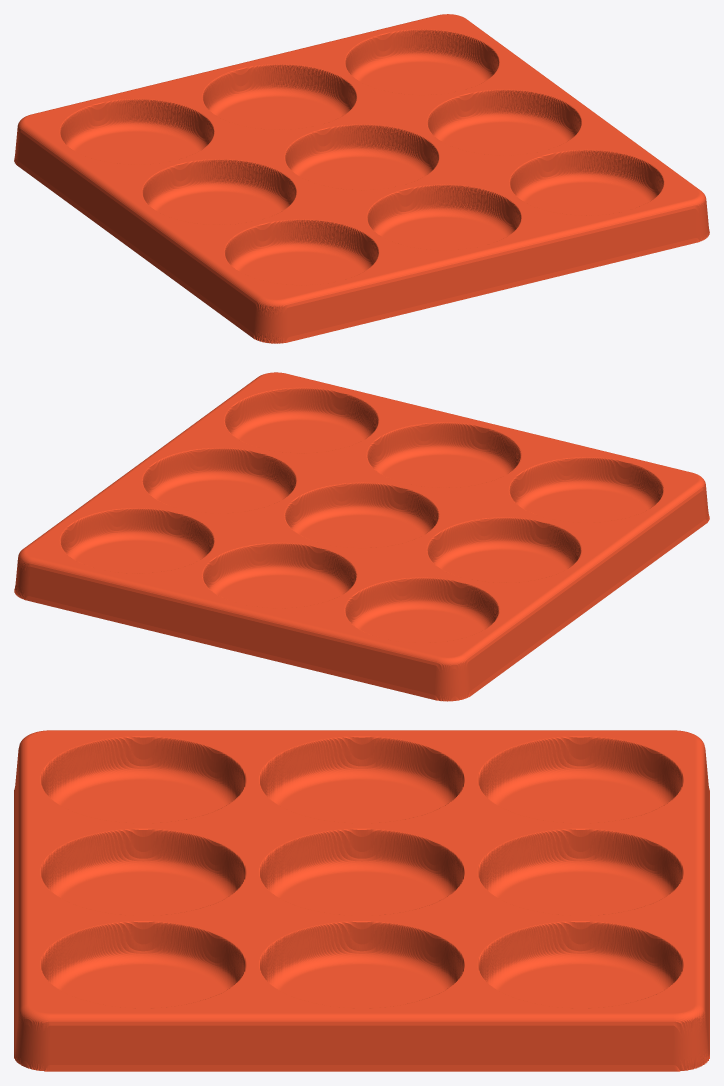
File: mold.glb
The picture shows the model from 3 angles, top to bottom: view 1: azimuth 30°, elevation 25°; view 2: azimuth 150°, elevation 25°; view 3: azimuth 270°, elevation 25°; orthographic projection. The views are drawn at different scales.
Parts seen in each view (by area): view 1: geometry_0; view 2: geometry_0; view 3: geometry_0.
Part boxes in pixels (x1,y1,x2,y2): geometry_0: [14, 14, 709, 343]; geometry_0: [14, 372, 709, 701]; geometry_0: [14, 730, 709, 1071].
Size of the model in its own units: 0.1749 by 0.0145 by 0.1749.
